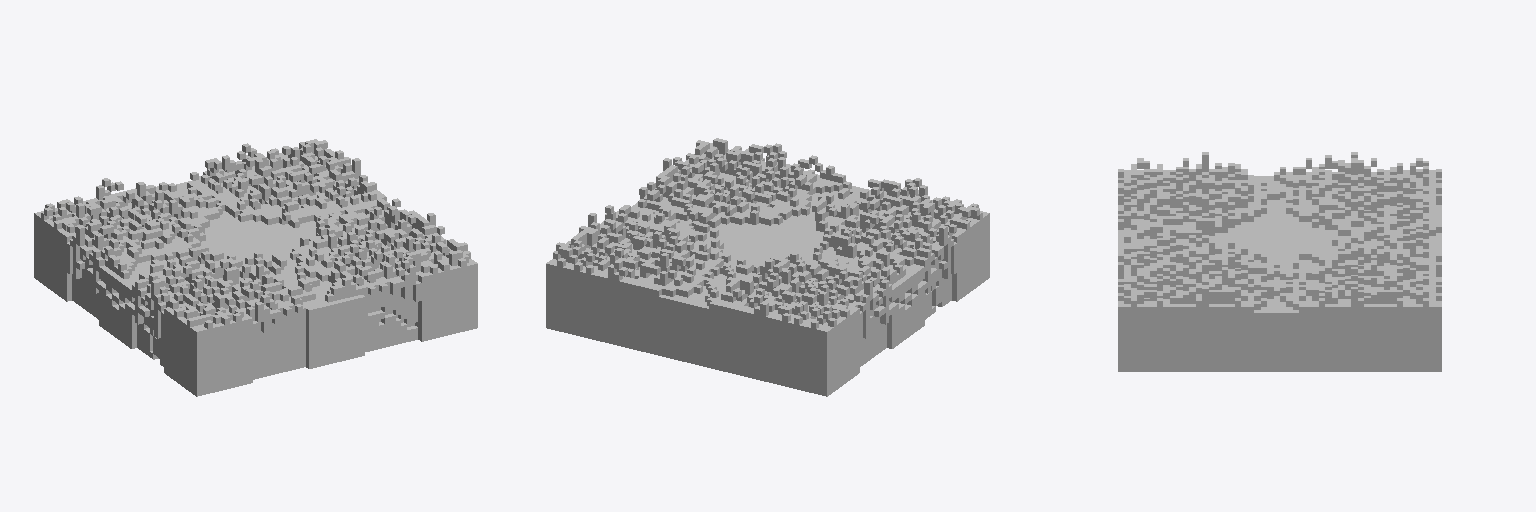
File: Floor_Garden.obj
3 views of the same model, side by side, from view 1: azimuth 30°, elevation 25°; view 2: azimuth 150°, elevation 25°; view 3: azimuth 270°, elevation 25° (orthographic).
Visible parts, largest first — view 1: Floor_Garden; view 2: Floor_Garden; view 3: Floor_Garden.
Boxes of the visible parts, box(x1,y1,x2,y2) form: Floor_Garden: box(34, 139, 477, 396); Floor_Garden: box(546, 138, 989, 396); Floor_Garden: box(1118, 152, 1441, 371).
Size of the model in its own units: 5 by 1.6 by 5.